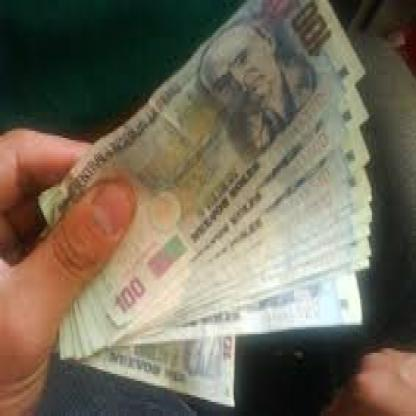billete: (35, 0, 371, 404)
